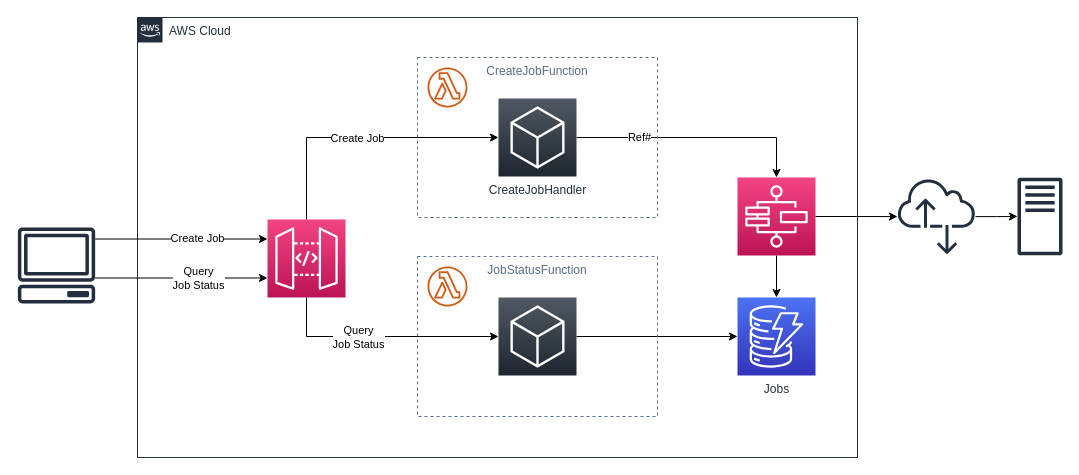
Image size: 1079x475. Some labels were removed from this diagram. The shapes that lost their labels are listed below. From the top down, each one's centre as x and y in pixels, then its label:
At point (776, 216): "RetrieveJokeStateMachine".
At point (1039, 216): "JokeAPI".
At point (537, 336): "JobStatusHandler".
